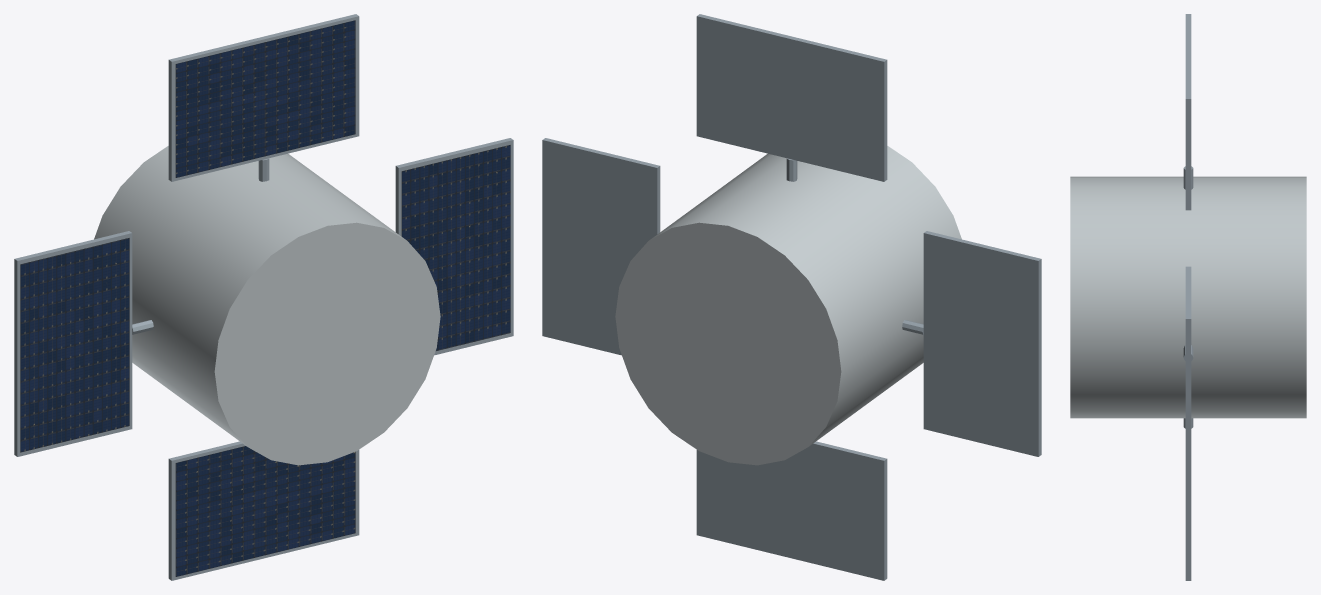
The model's file is ref-proton-n-4-1466.glb.
The picture shows the model from 3 angles, left to right: view 1: azimuth 30°, elevation 25°; view 2: azimuth 150°, elevation 25°; view 3: azimuth 270°, elevation 25°; orthographic projection. The views are drawn at different scales.
Visible parts, largest first — view 1: Photovoltaic laminates (×4), Spacecraft body, Array frame (×4); view 2: Array frame (×4), Spacecraft body; view 3: Spacecraft body, Array frame (×3).
Boxes of the visible parts, left/top/right/bottom form: Photovoltaic laminates (×4): left=20, top=20, right=510, bottom=576; Spacecraft body: left=94, top=146, right=440, bottom=465; Array frame (×4): left=14, top=14, right=513, bottom=580; Array frame (×4): left=542, top=14, right=1041, bottom=580; Spacecraft body: left=615, top=146, right=961, bottom=465; Spacecraft body: left=1070, top=176, right=1306, bottom=418; Array frame (×3): left=1185, top=14, right=1191, bottom=580.
Bounding box in the file's own units: 9 × 9 × 4.
Materials: 3 (1 with a texture image).
